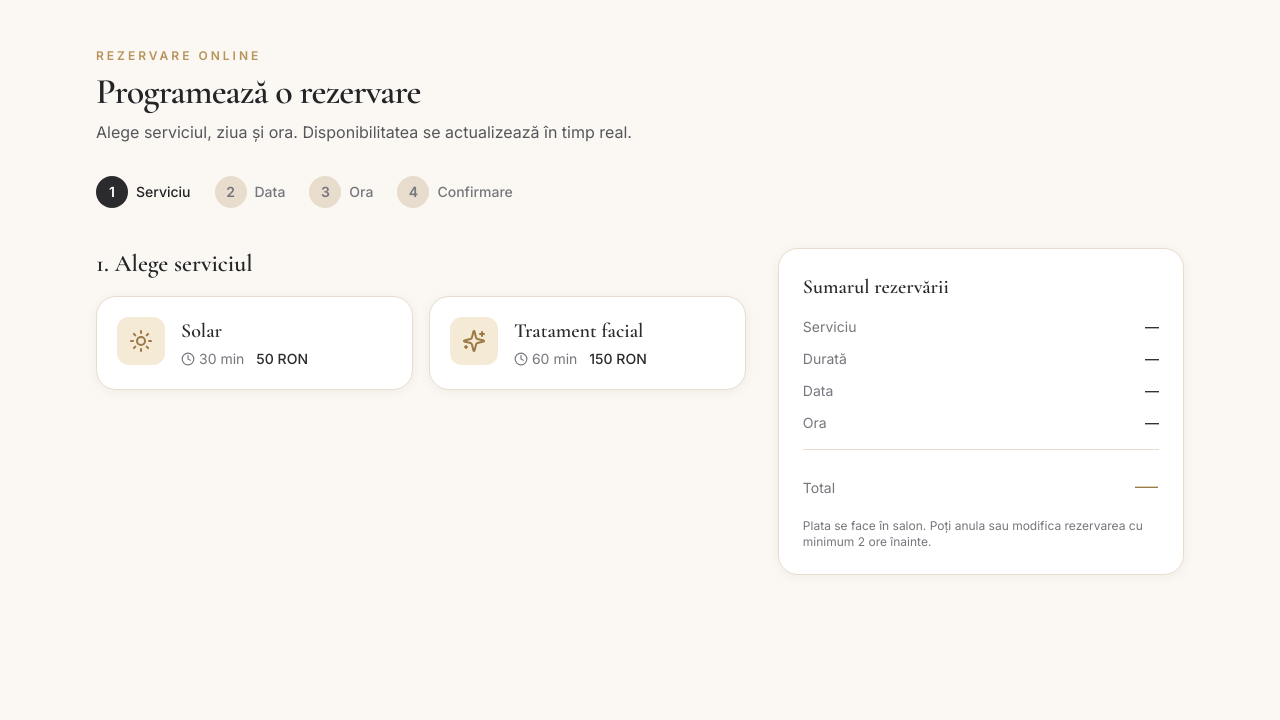
it: Booking flow › shows an error state with retry when availability cannot be loaded
Click the button "Tratament facial 60 min 150 RON" at coordinates (587, 343), box [429,296,746,390]
(page scrolled)
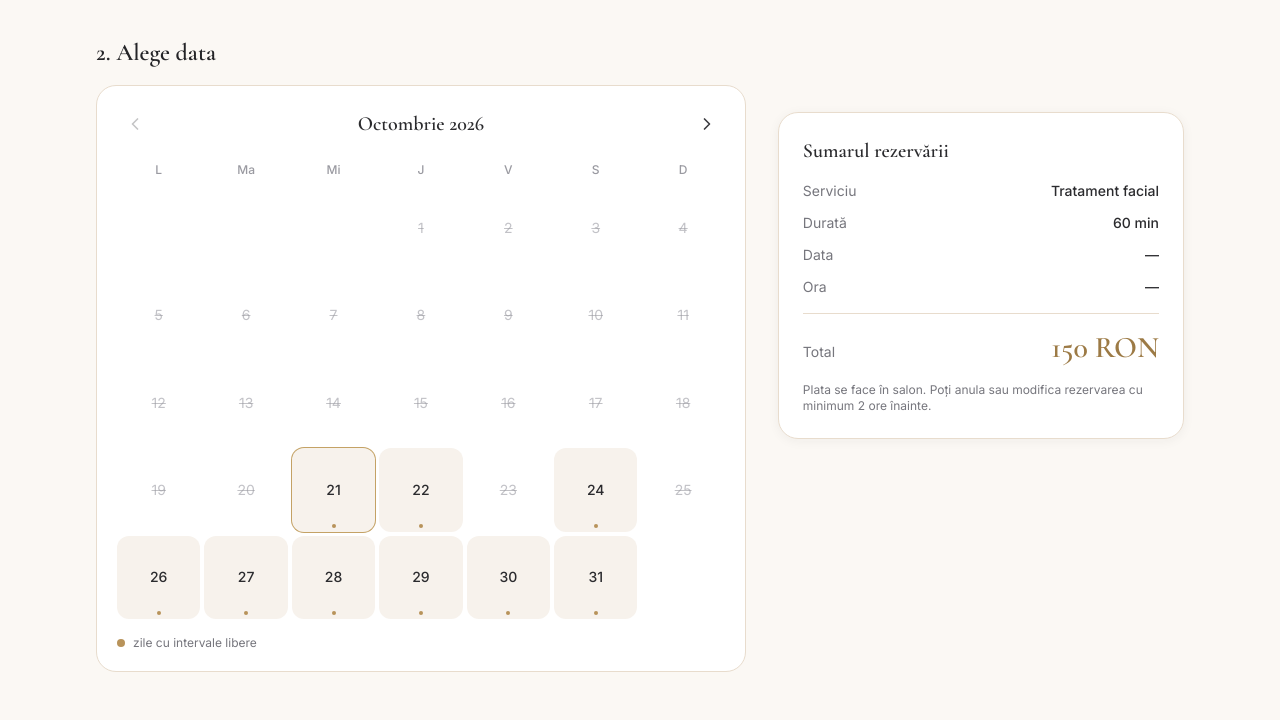
Now the button named "duminică, 25 octombrie 2026" is disabled, box [641,448,725,532]
Now the button named "vineri, 23 octombrie 2026" is disabled, box [467,448,550,532]
Now the button named "marți, 20 octombrie 2026" is disabled, box [204,448,288,532]
Click the button named "joi, 22 octombrie 2026" at coordinates (421, 490), box [379,448,463,532]
(page scrolled)
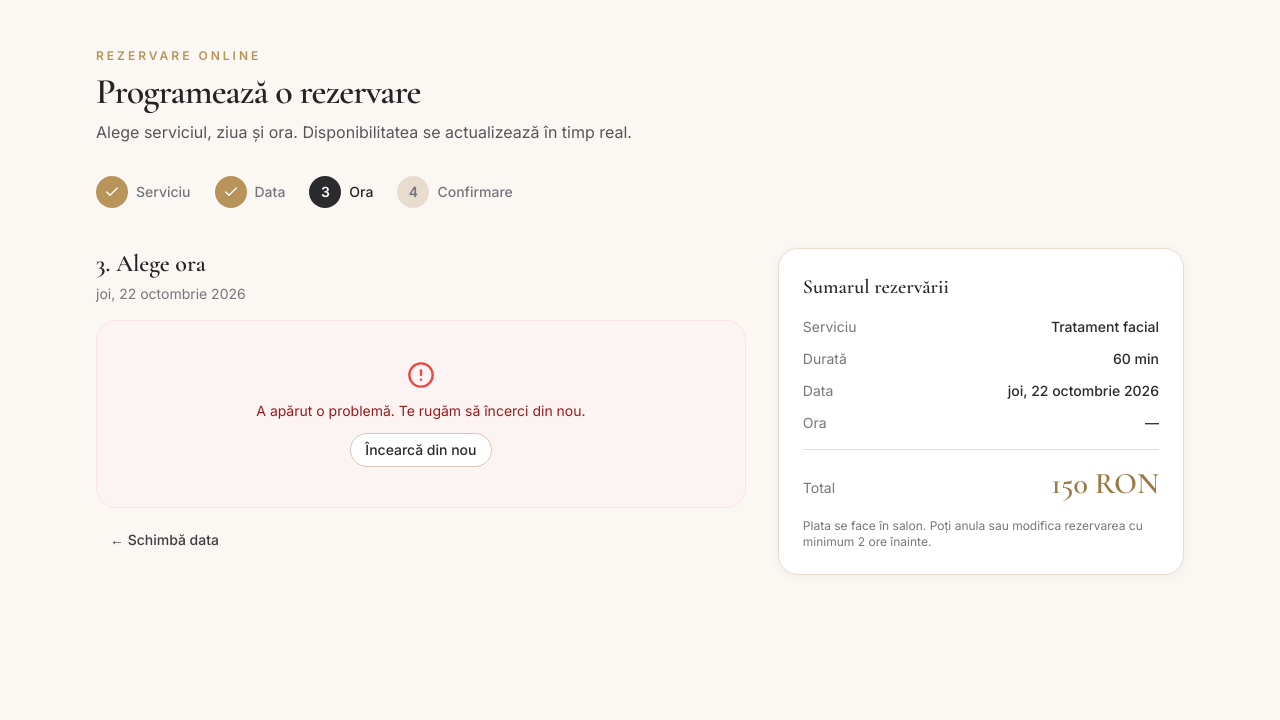
Now the text "A apărut o problemă. Te rugăm să încerci din nou." is shown, box [256,401,586,421]
Now the button "Încearcă din nou" is shown, box [350,433,492,467]
